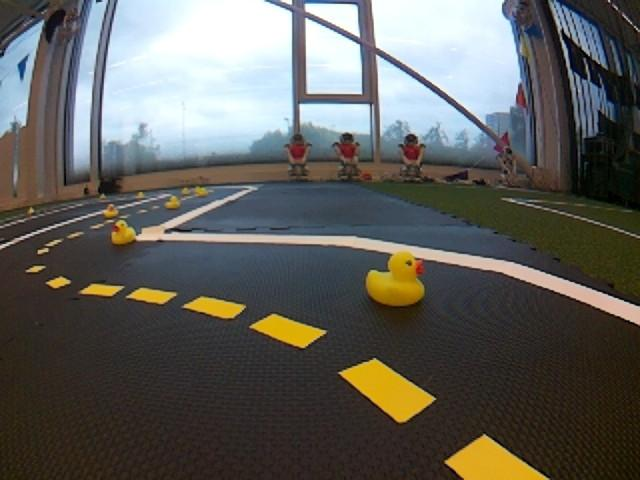Duckies: (364, 251, 426, 306), (111, 219, 138, 244), (163, 195, 181, 210), (103, 203, 119, 219), (27, 206, 36, 214), (198, 188, 208, 195), (99, 192, 107, 200), (182, 187, 190, 194), (194, 185, 201, 192), (137, 191, 145, 197)
